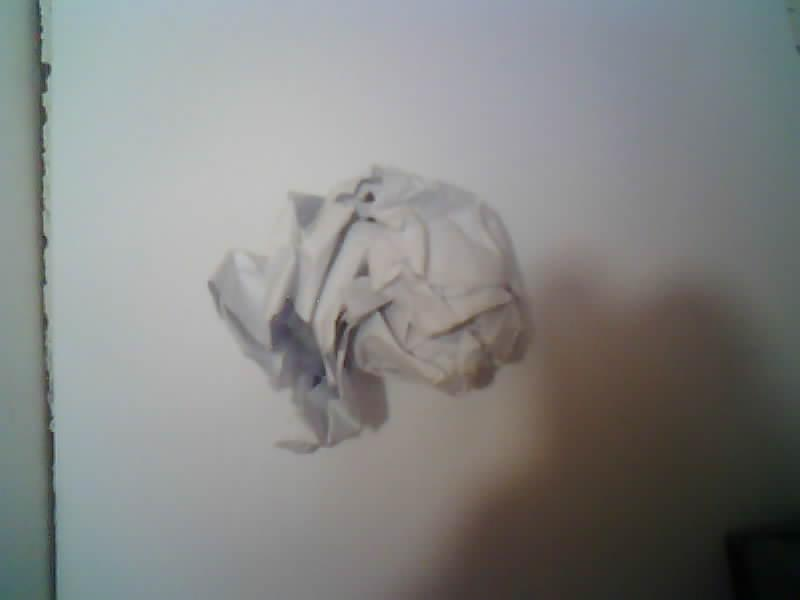biodegradable: (209, 167, 526, 451)
